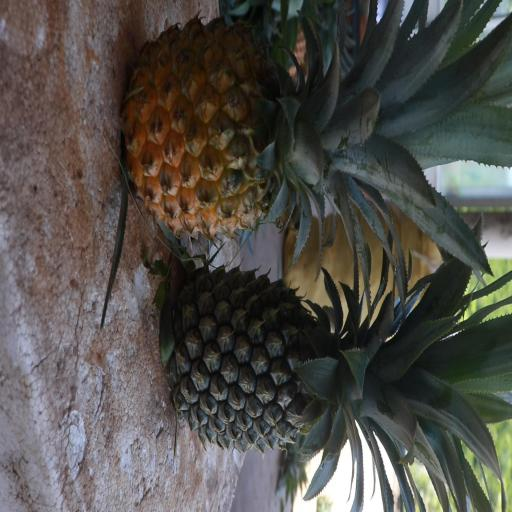Pineapple - v8 v1: (128, 14, 454, 230)
